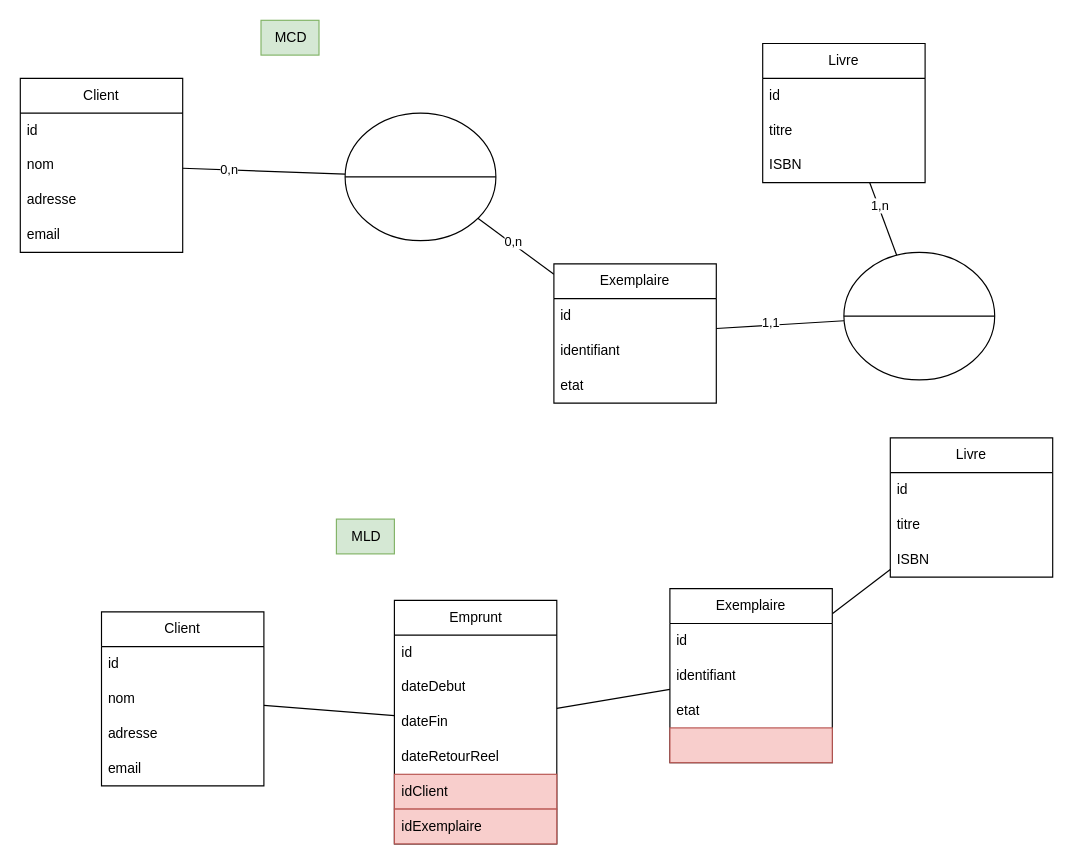
The diagram is 1073 pixels wide and 864 high, and some of its shapes have lost their labels. The centre of each missing label's shape, as x and y in pixels:
"comprend" belongs at (x=919, y=315).
"emprunt dateDebut dateRetour dateRetourReel" belongs at (x=420, y=176).
"idLivre" belongs at (x=750, y=745).
